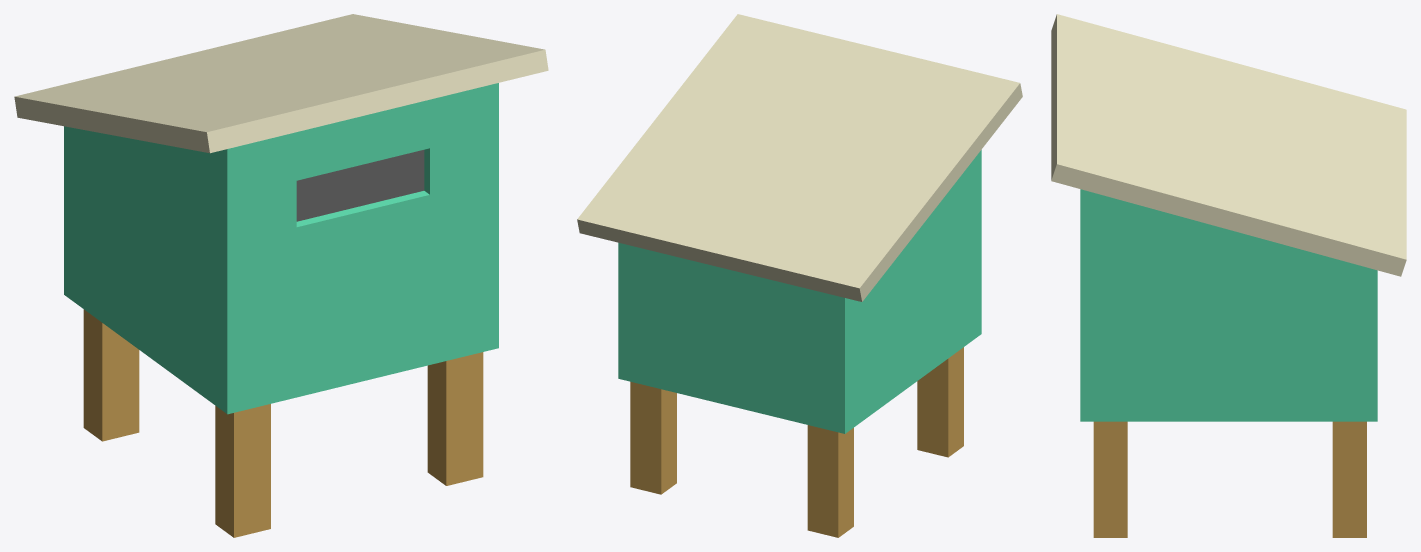
The model's file is hive_4.fbx.
The picture shows the model from 3 angles, left to right: view 1: azimuth 30°, elevation 25°; view 2: azimuth 150°, elevation 25°; view 3: azimuth 270°, elevation 25°; orthographic projection. The views are drawn at different scales.
Parts seen in each view (by area): view 1: Cube_12; view 2: Cube_12; view 3: Cube_12.
Part boxes in pixels (<box>): Cube_12: <box>14,14,548,537</box>; Cube_12: <box>577,14,1022,537</box>; Cube_12: <box>1051,14,1406,537</box>.
Bounding box in the file's own units: 82.26 × 100 × 82.34.
